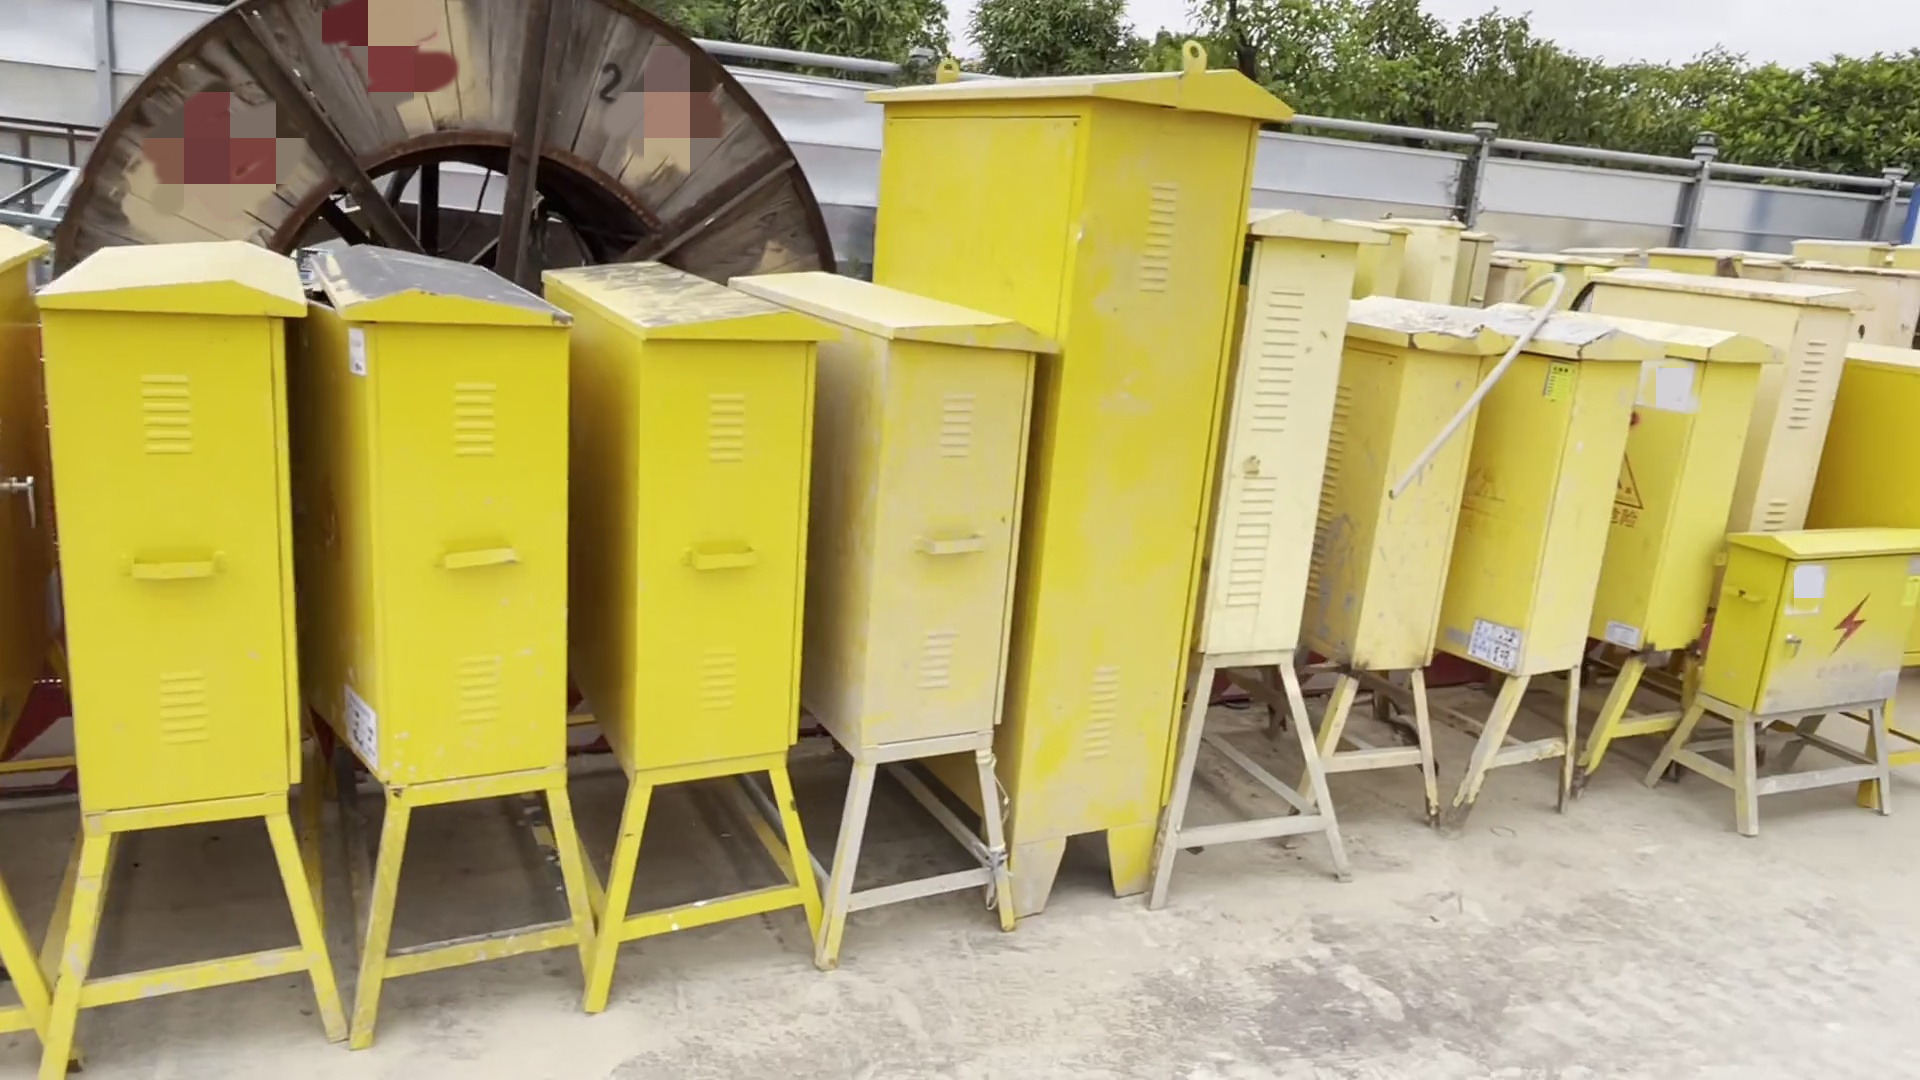ebox: (865, 82, 1153, 915), (40, 237, 326, 1062), (348, 243, 589, 1040), (576, 233, 827, 978), (749, 253, 1019, 931), (1153, 216, 1360, 913), (1449, 301, 1646, 827), (1578, 309, 1782, 802), (1317, 294, 1452, 825), (1679, 526, 1907, 833), (1733, 278, 1859, 538)
